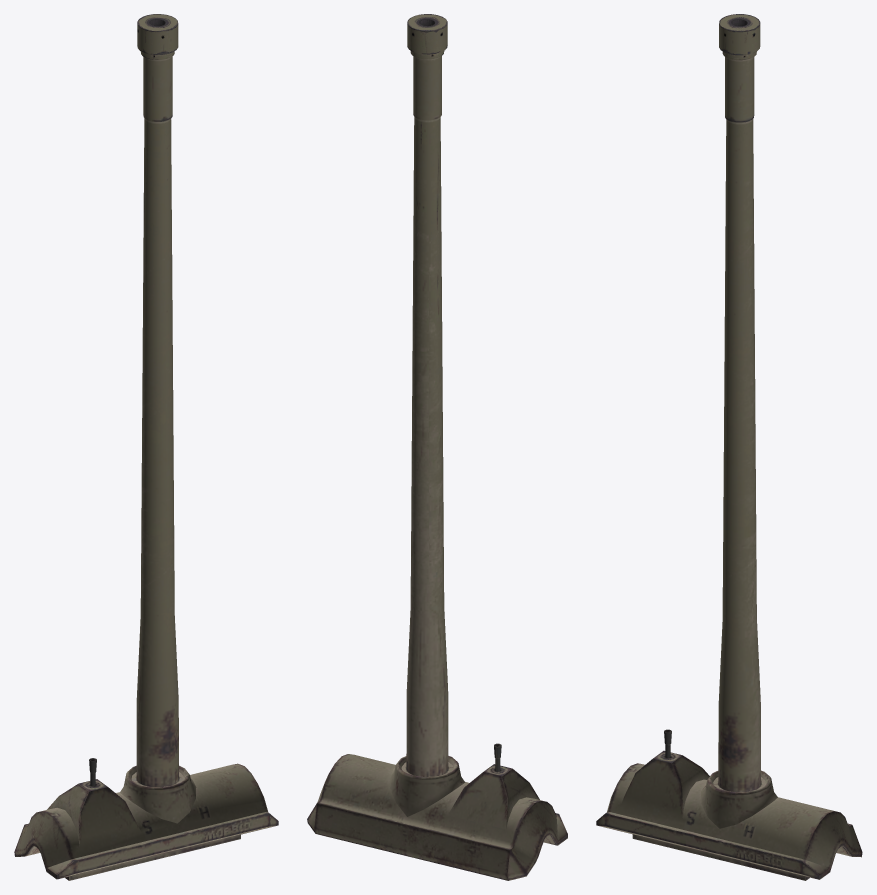
File: Gun_06.glb
3 views of the same model, side by side, from view 1: azimuth 30°, elevation 25°; view 2: azimuth 150°, elevation 25°; view 3: azimuth 330°, elevation 25° (orthographic).
Visible parts, largest first — view 1: set_0_group_0; view 2: set_0_group_0; view 3: set_0_group_0.
Part boxes in pixels (x1,y1,x2,y2): set_0_group_0: (14, 14, 278, 880); set_0_group_0: (307, 14, 567, 880); set_0_group_0: (596, 14, 862, 880).
Bounding box in the file's own units: 1.33 × 4.76 × 0.5453.
Materials: 1 (1 with a texture image).
